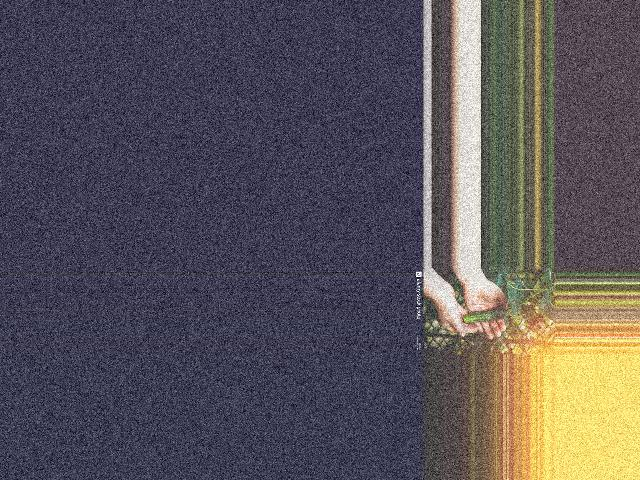cucumber: (462, 307, 506, 323)
